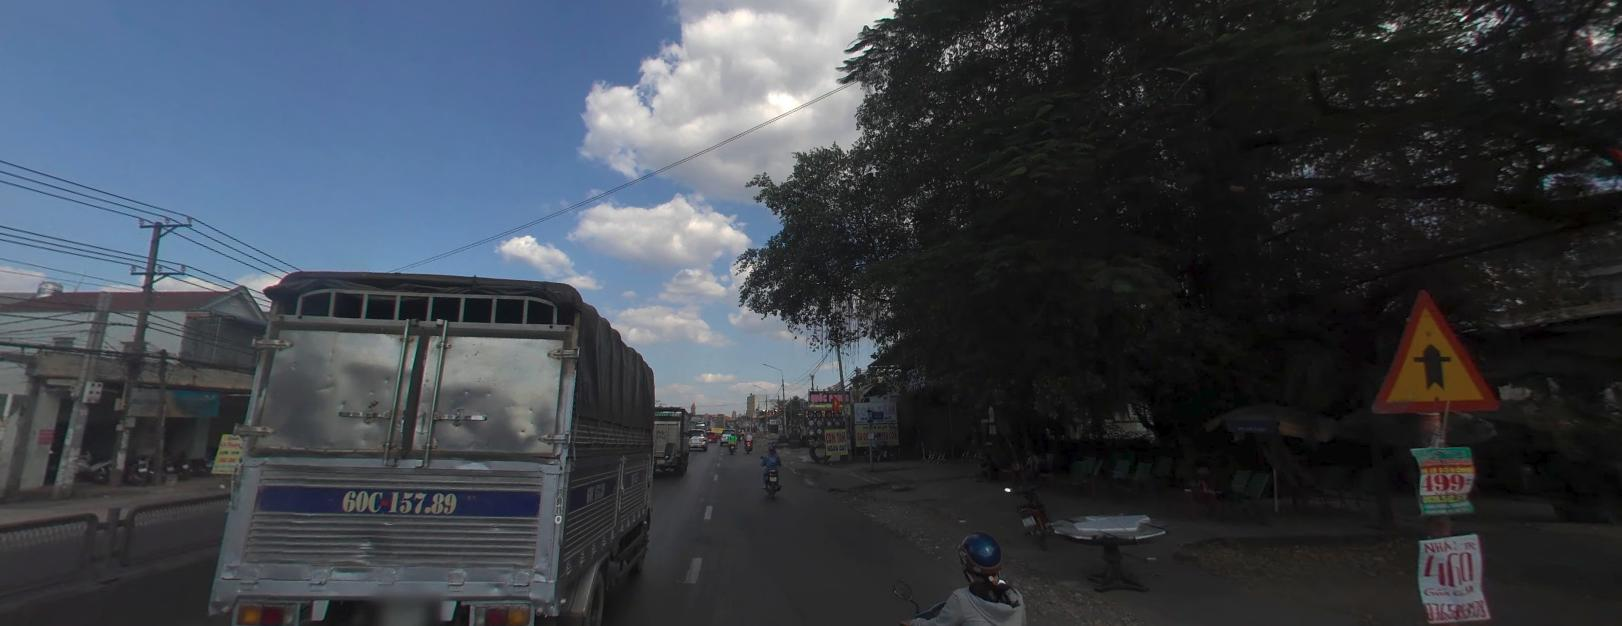Nguy hiem: (1368, 287, 1504, 414), (1372, 288, 1500, 413), (1376, 284, 1501, 411)
